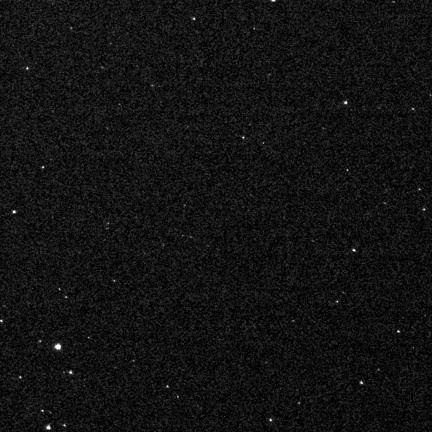blob: (55, 344, 61, 350), (12, 211, 16, 213)
